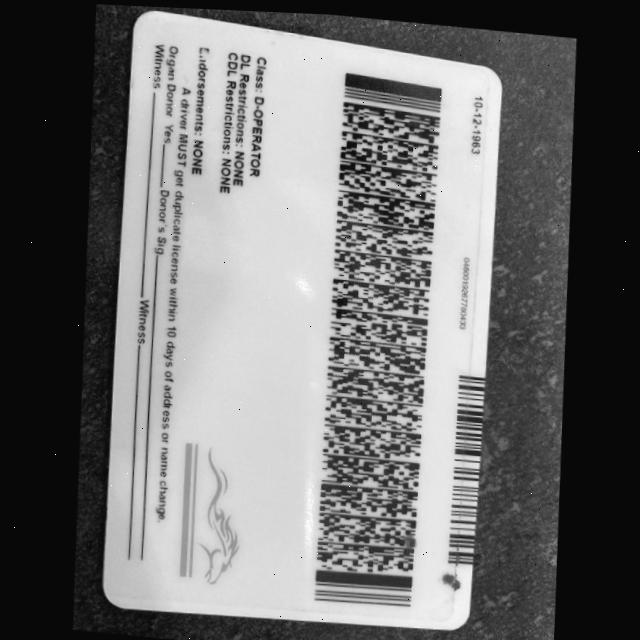card: (104, 13, 501, 629)
